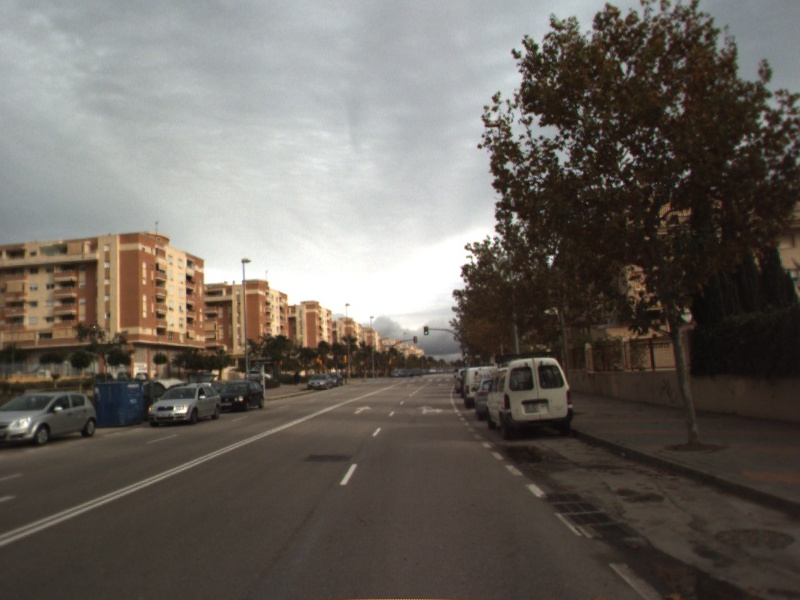STRAIGHT: (352, 403, 374, 416)
STRAIGHT_RIGHT: (416, 403, 444, 416)
